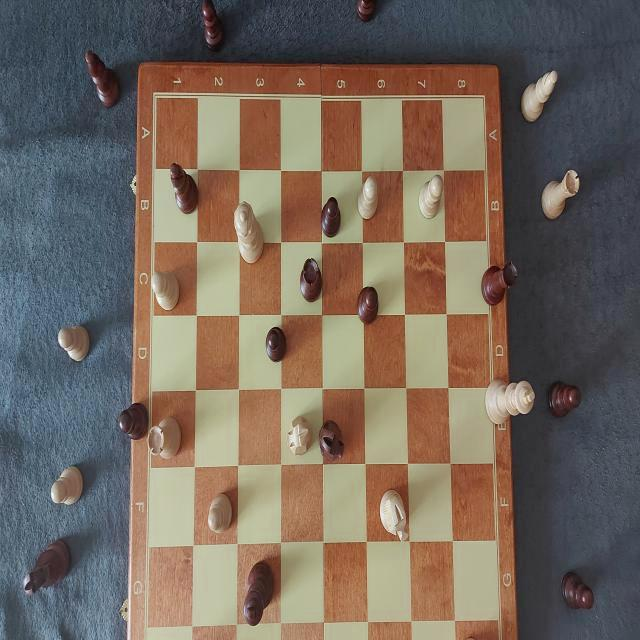chess-table-corners: (144, 79, 164, 114), (470, 84, 490, 115)
